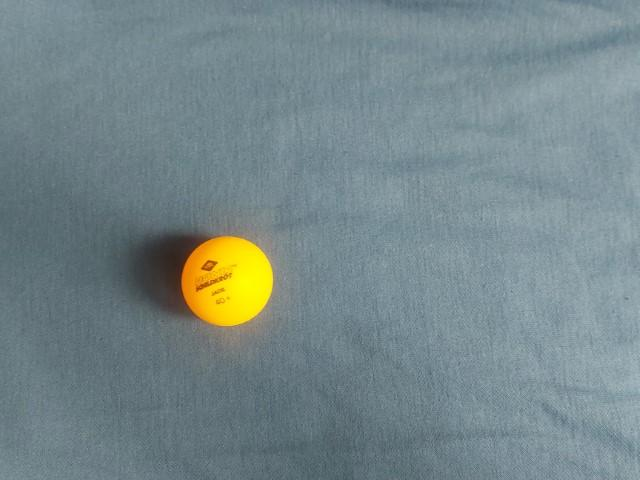oball: (360, 147, 462, 252)
